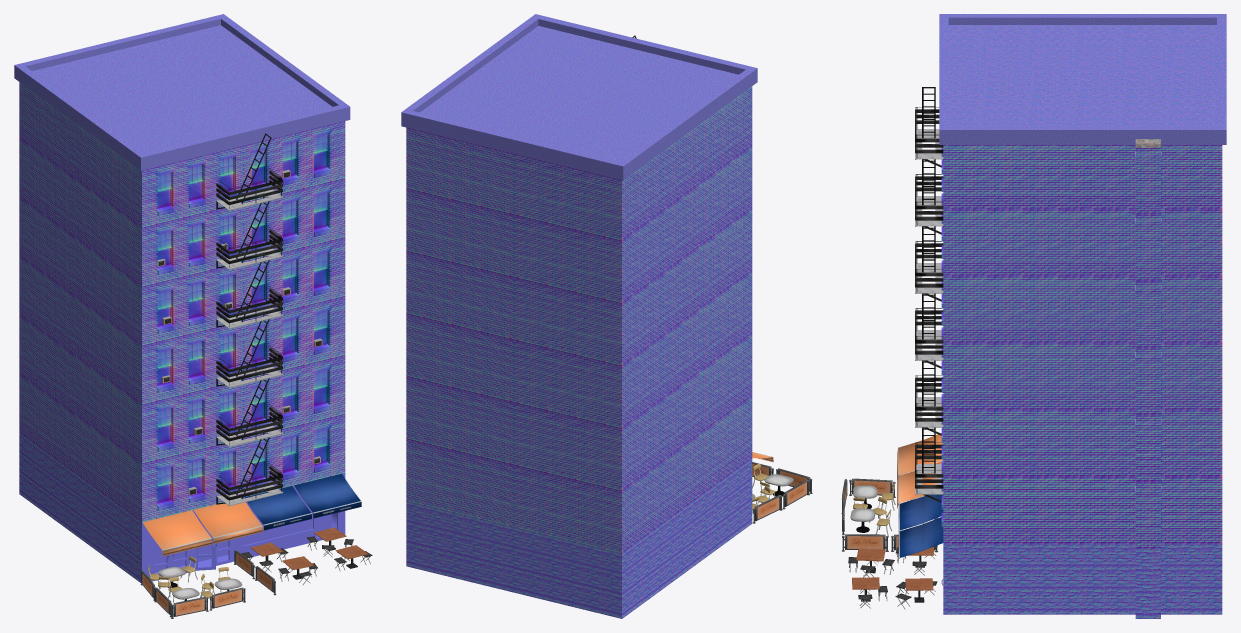
The model's file is NY_House_Textured.fbx.
The picture shows the model from 3 angles, left to right: view 1: azimuth 30°, elevation 25°; view 2: azimuth 150°, elevation 25°; view 3: azimuth 270°, elevation 25°; orthographic projection. The views are drawn at different scales.
Parts seen in each view (by area): view 1: Cube; view 2: Cube; view 3: Cube.
Boxes of the visible parts, x1,y1,x2,y2 form: Cube: (14, 14, 372, 618); Cube: (401, 14, 812, 618); Cube: (841, 14, 1226, 618).
Bounding box in the file's own units: 1920 × 3488 × 2502.
